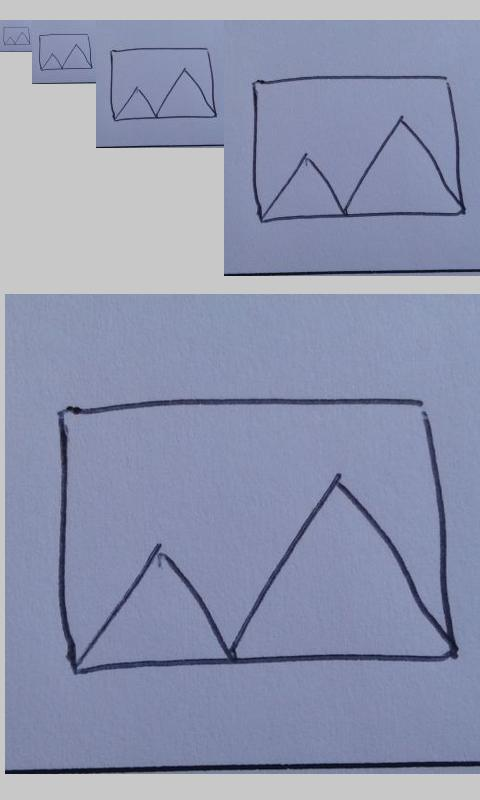image_view: (54, 395, 461, 685), (250, 74, 466, 224), (109, 47, 217, 121), (38, 33, 94, 71), (2, 26, 31, 46)
